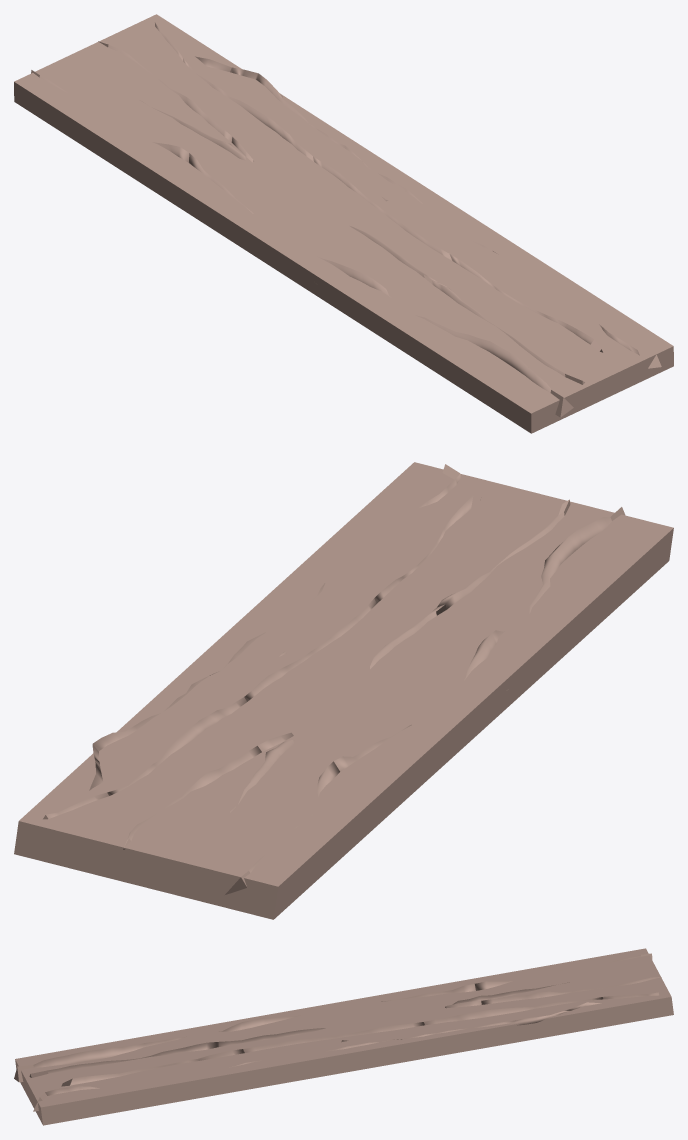
File: WoodBoard.fbx
3 views of the same model, one above another, from view 1: azimuth 30°, elevation 25°; view 2: azimuth 150°, elevation 25°; view 3: azimuth 270°, elevation 25° (orthographic). The views are drawn at different scales.
Parts seen in each view (by area): view 1: model; view 2: model; view 3: model.
Part boxes in pixels (left/top/right/bottom): model: left=14, top=14, right=673, bottom=433; model: left=14, top=462, right=673, bottom=919; model: left=14, top=948, right=673, bottom=1125.
Bounding box in the file's own units: 13.82 × 5.34 × 34.3.
